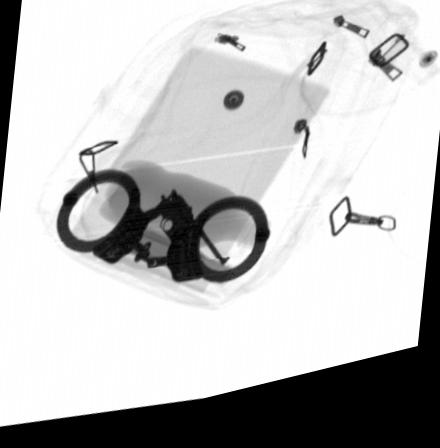Gun: (159, 196, 230, 278)
HandCuffs: (56, 172, 273, 295)
